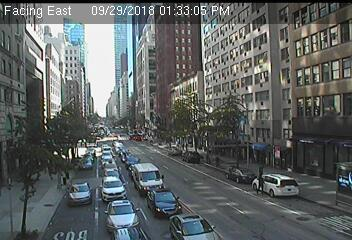car: (253, 173, 301, 200), (147, 189, 183, 220), (105, 200, 141, 230), (133, 163, 165, 196), (99, 177, 128, 202), (226, 167, 257, 185), (67, 182, 91, 205), (103, 168, 120, 182), (182, 150, 200, 163), (126, 155, 139, 170), (102, 161, 118, 173), (167, 146, 182, 157), (80, 158, 93, 170), (101, 151, 113, 161)
